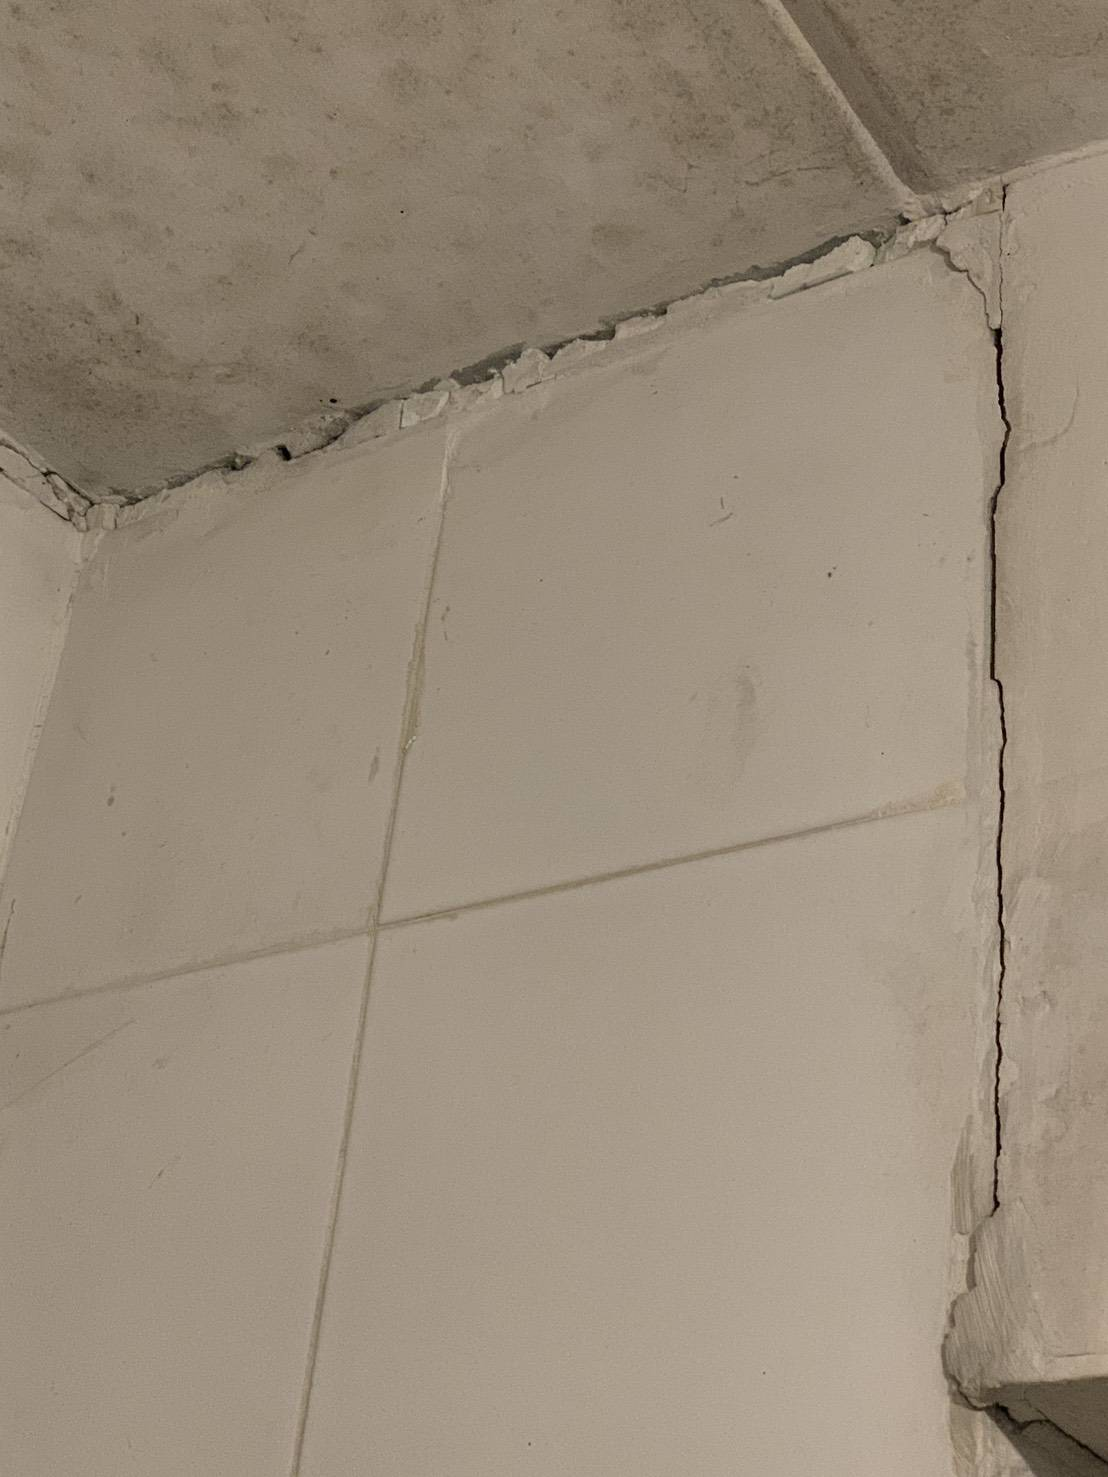Low: (846, 237, 1098, 1205)
